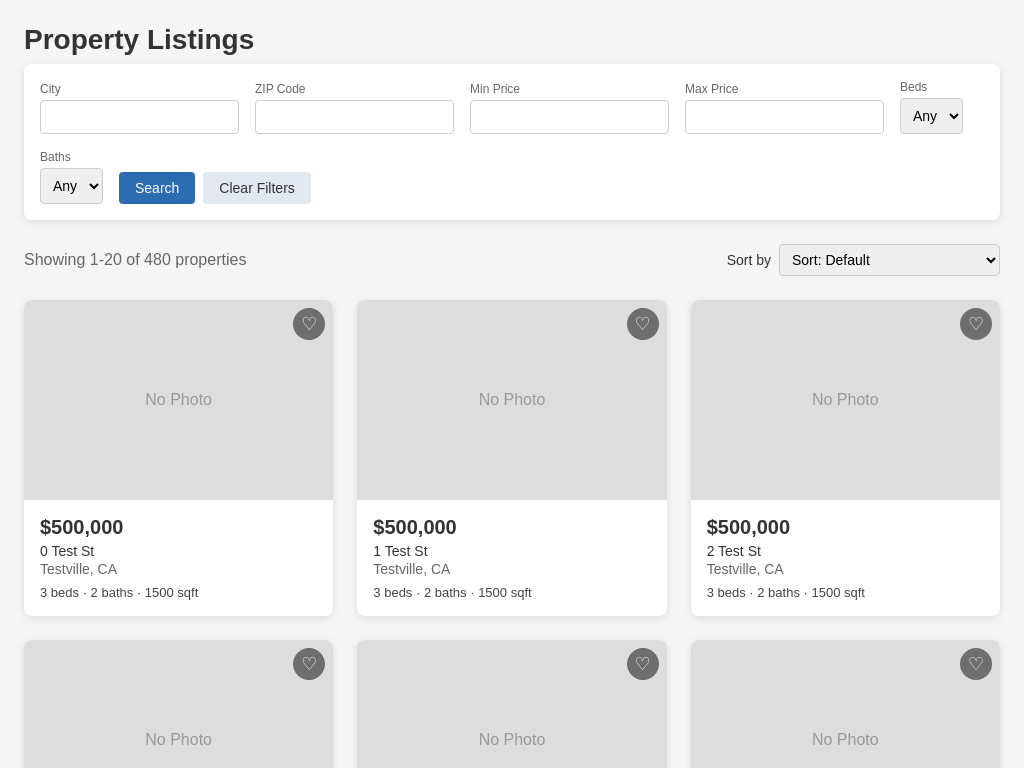
Test: applying a new filter resets the sort back to default
Check: the text "Showing 1-20 of 480 properties" is shown, box [24,251,246,269]
Select "Price: Low to High" in the dropdown labelled "Sort by" at x=890, y=260, box [779,244,1000,276]
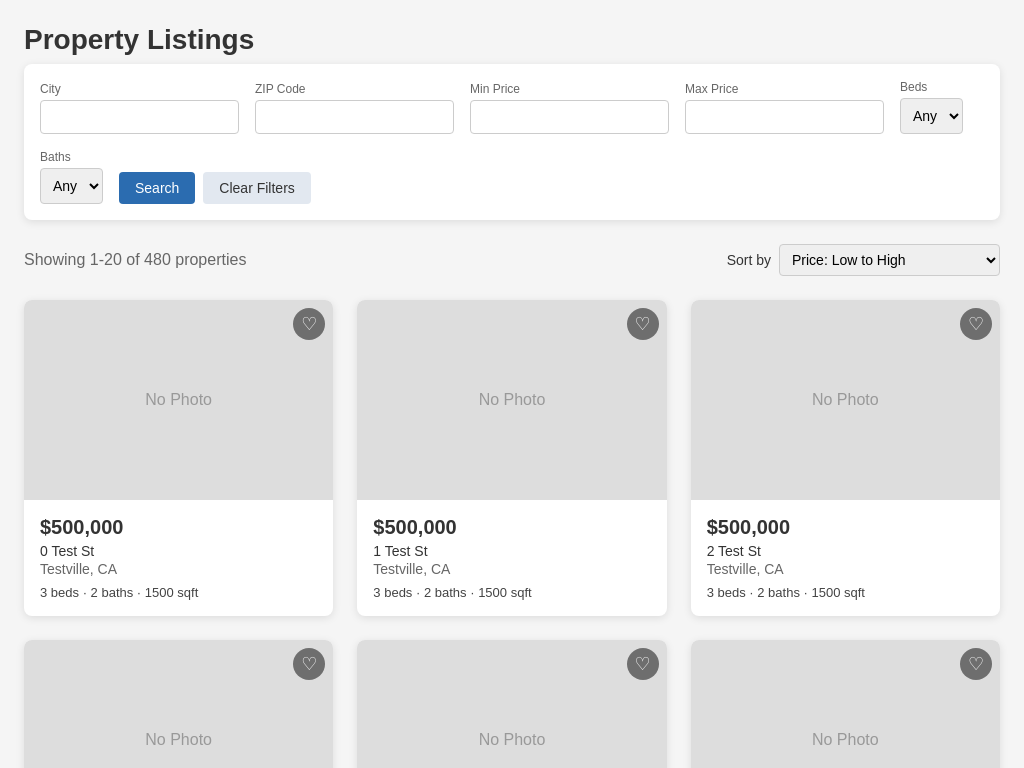
Check: the text "Showing 1-20 of 480 properties" is shown, box [24,251,246,269]
Type "Testville" into the field labelled "City" at x=140, y=117, box [40,100,239,134]
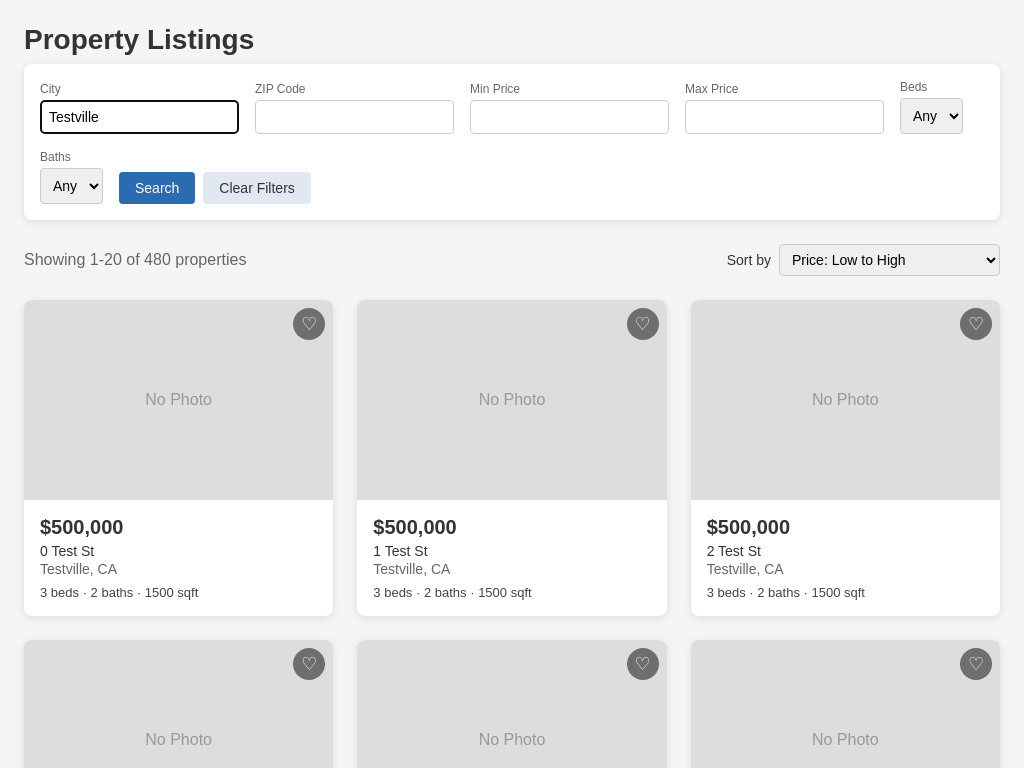
Click the button "Search" at x=157, y=188, box [119,172,195,204]
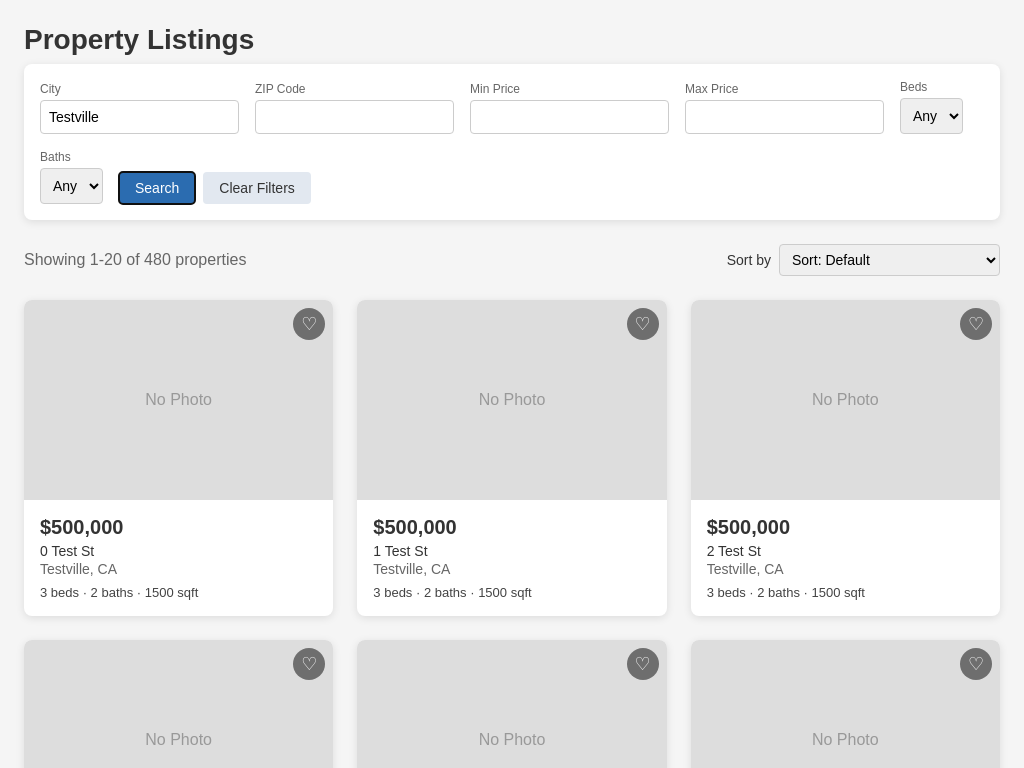
Check: the text "Showing 1-20 of 480 properties" is shown, box [24,251,246,269]
Check: the dropdown labelled "Sort by" shows "Sort: Default", box [779,244,1000,276]
